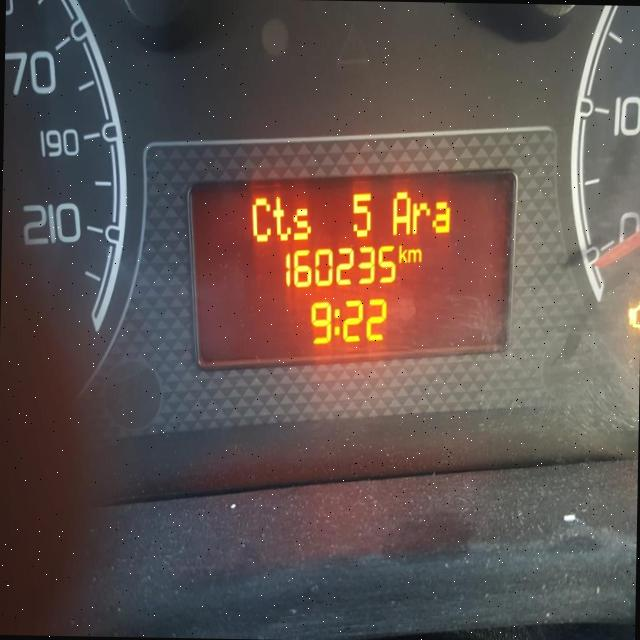odometer: (178, 158, 522, 378)
